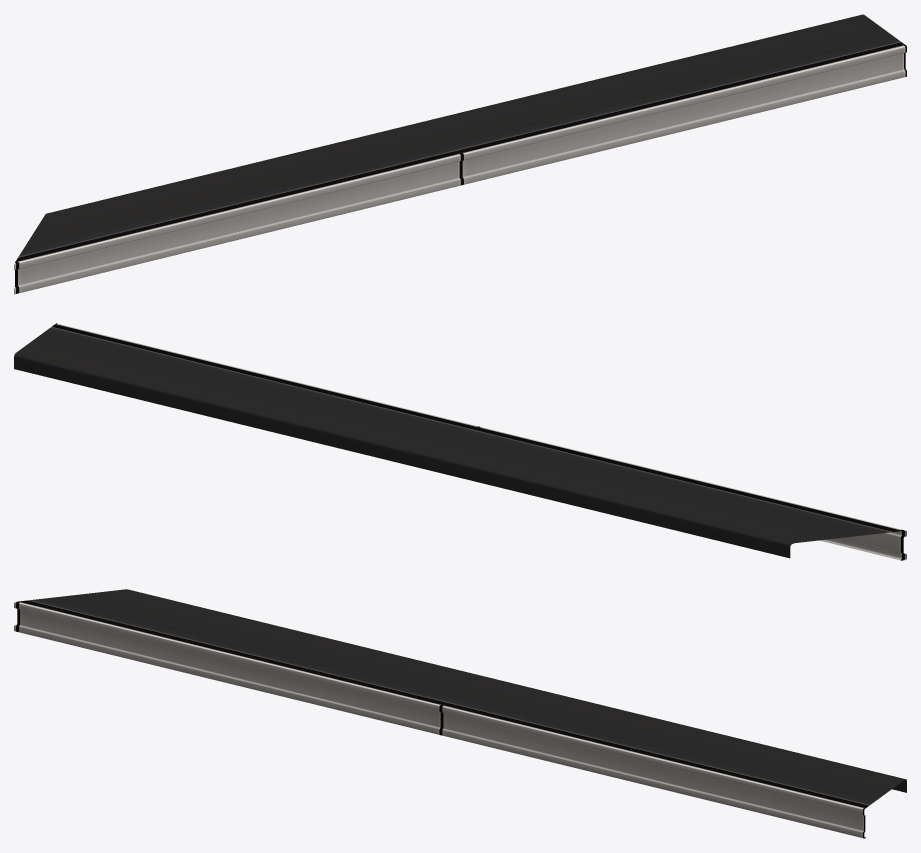
Rendered from RoofTrim_2-OuterCorner.fbx.
The picture shows the model from 3 angles, top to bottom: view 1: azimuth 30°, elevation 25°; view 2: azimuth 150°, elevation 25°; view 3: azimuth 330°, elevation 25°; orthographic projection. The views are drawn at different scales.
Parts seen in each view (by area): view 1: RoofTrim_2_LeftCorner; view 2: RoofTrim_2_LeftCorner; view 3: RoofTrim_2_LeftCorner.
Part boxes in pixels (<box>): RoofTrim_2_LeftCorner: <box>14,14,906,294</box>; RoofTrim_2_LeftCorner: <box>14,323,906,560</box>; RoofTrim_2_LeftCorner: <box>14,589,906,838</box>.
Bounding box in the file's own units: 301 × 10 × 26.21.
